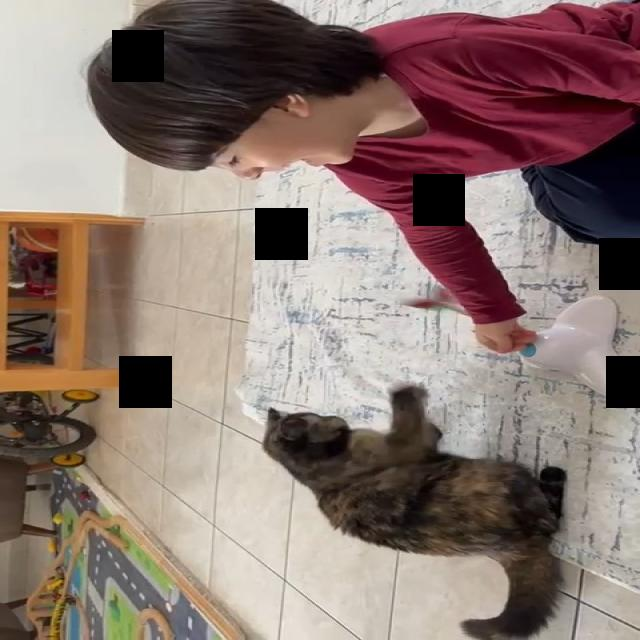authorized: (260, 385, 568, 639)
